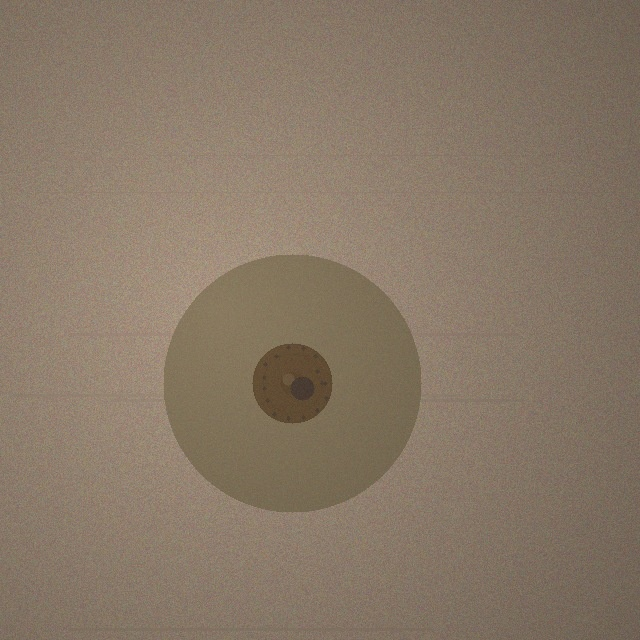cold_weld: (163, 254, 421, 512)
